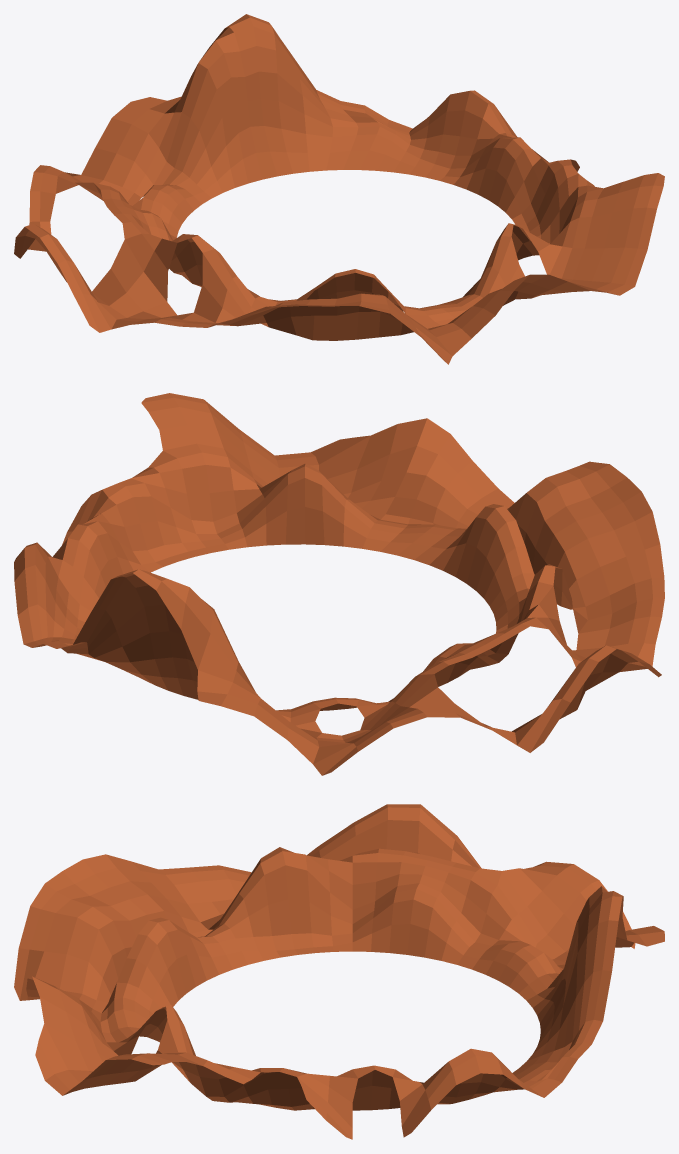
Rendered from MountainRing.fbx.
3 renders of one model, top to bottom at view 1: azimuth 30°, elevation 25°; view 2: azimuth 150°, elevation 25°; view 3: azimuth 270°, elevation 25°, orthographic. The views are drawn at different scales.
Visible parts, largest first — view 1: MountainRing; view 2: MountainRing; view 3: MountainRing.
Part boxes in pixels (left/top/right/bottom): MountainRing: left=14, top=14, right=664, bottom=364; MountainRing: left=14, top=393, right=664, bottom=775; MountainRing: left=14, top=804, right=664, bottom=1139.
Bounding box in the file's own units: 311 × 78.34 × 310.
